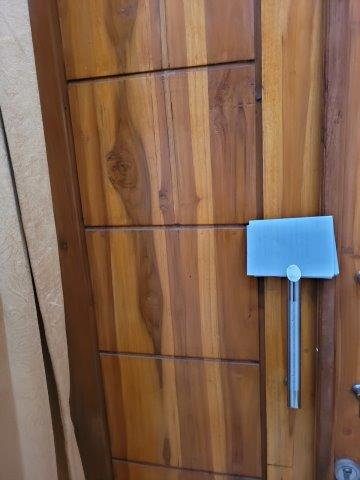kertas: (245, 215, 340, 278)
